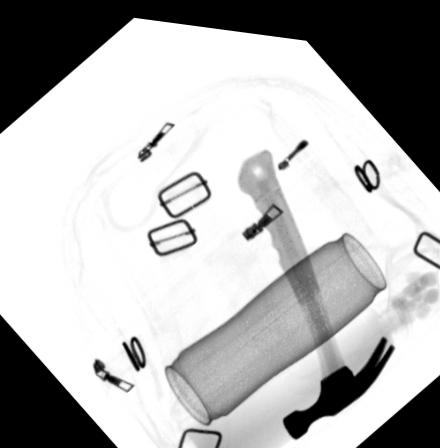Hammer: (235, 139, 398, 432)
